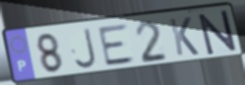2: (134, 19, 169, 65)
8: (34, 31, 65, 75)
E: (96, 22, 138, 69)
J: (73, 26, 99, 71)
K: (167, 16, 201, 58)
N: (196, 8, 239, 57)
